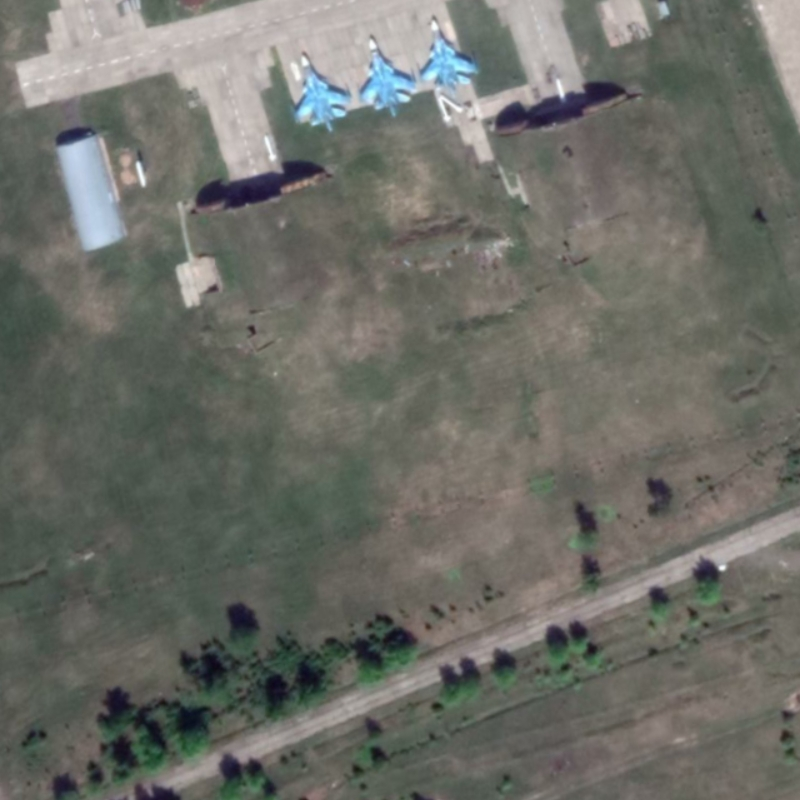A19: (291, 49, 354, 135), (419, 12, 484, 95), (356, 32, 417, 119)
